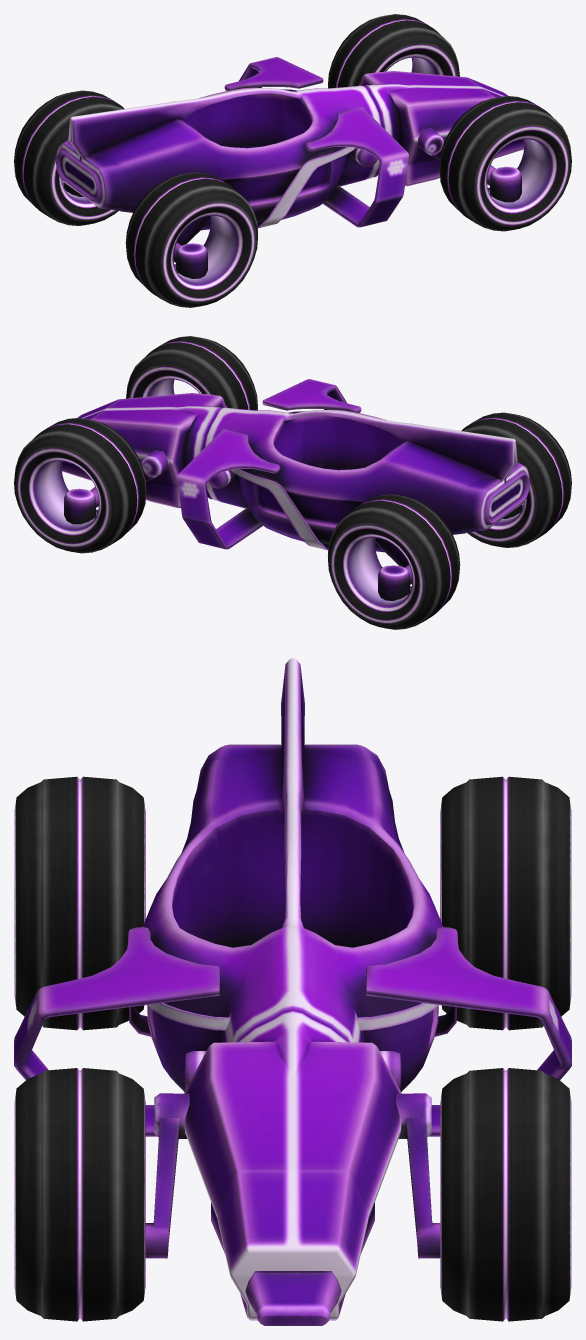
File: TRON_PURPLE.glb
3 views of the same model, one above another, from view 1: azimuth 30°, elevation 25°; view 2: azimuth 150°, elevation 25°; view 3: azimuth 270°, elevation 25° (orthographic). The views are drawn at different scales.
Visible parts, largest first — view 1: car_body, wheel_rr, wheel_fr, wheel_rl, wheel_fl; view 2: car_body, wheel_rl, wheel_fl, wheel_rr, wheel_fr; view 3: car_body, wheel_fr, wheel_fl, wheel_rl, wheel_rr.
Part boxes in pixels (x1=…): car_body: x1=56, y1=57, x2=524, y2=278; wheel_rr: x1=125, y1=172, x2=258, y2=307; wheel_fr: x1=439, y1=96, x2=571, y2=231; wheel_rl: x1=14, y1=90, x2=124, y2=225; wheel_fl: x1=328, y1=14, x2=459, y2=88; car_body: x1=61, y1=379, x2=529, y2=600; wheel_rl: x1=327, y1=494, x2=460, y2=629; wheel_fl: x1=14, y1=418, x2=146, y2=553; wheel_rr: x1=461, y1=412, x2=571, y2=547; wheel_fr: x1=126, y1=336, x2=257, y2=410; car_body: x1=14, y1=658, x2=571, y2=1325; wheel_fr: x1=14, y1=1068, x2=145, y2=1321; wheel_fl: x1=440, y1=1068, x2=571, y2=1321; wheel_rl: x1=440, y1=776, x2=571, y2=1030; wheel_rr: x1=14, y1=776, x2=145, y2=1030.
Bounding box in the file's own units: 0.2933 × 0.0933 × 0.1566.
2 materials, 2 textured.
